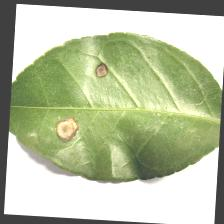canker: (49, 61, 112, 142)
